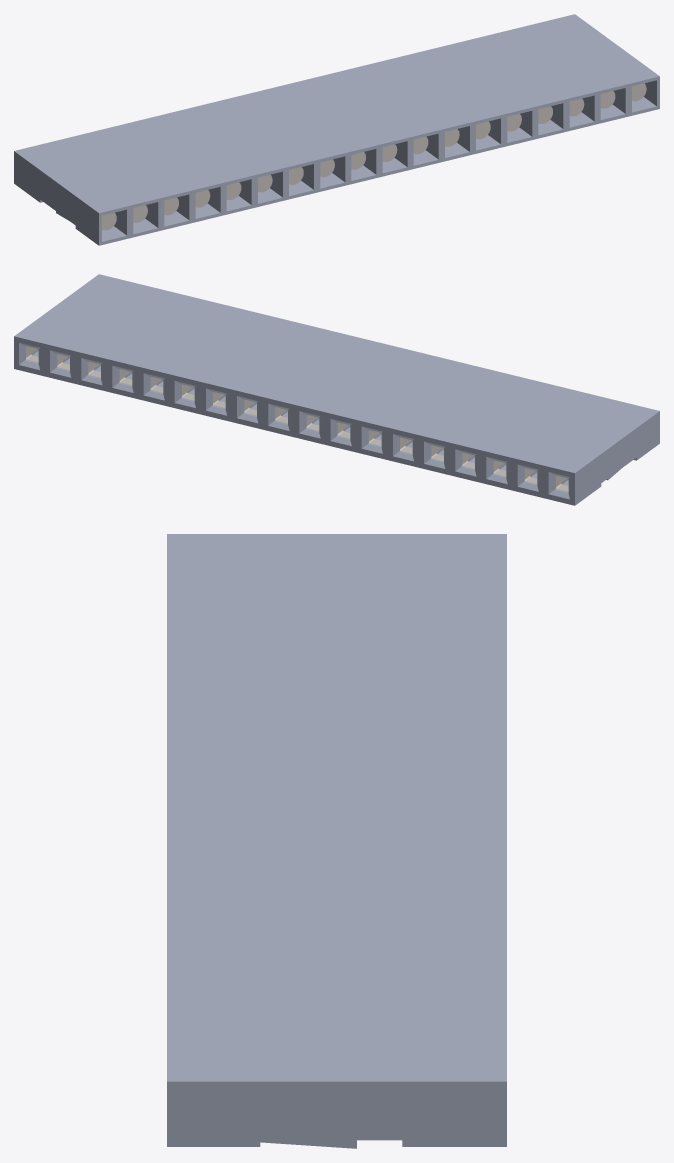
The picture shows the model from 3 angles, top to bottom: view 1: azimuth 30°, elevation 25°; view 2: azimuth 150°, elevation 25°; view 3: azimuth 270°, elevation 25°; orthographic projection. The views are drawn at different scales.
Visible parts, largest first — view 1: DS1071-1x18; view 2: DS1071-1x18; view 3: DS1071-1x18.
Boxes of the visible parts, box(x1,y1,x2,y2) form: DS1071-1x18: box(14, 14, 659, 245); DS1071-1x18: box(14, 274, 659, 505); DS1071-1x18: box(167, 534, 506, 1148).
Bounding box in the file's own units: 0.0233 × 0.00142 × 0.00612.
